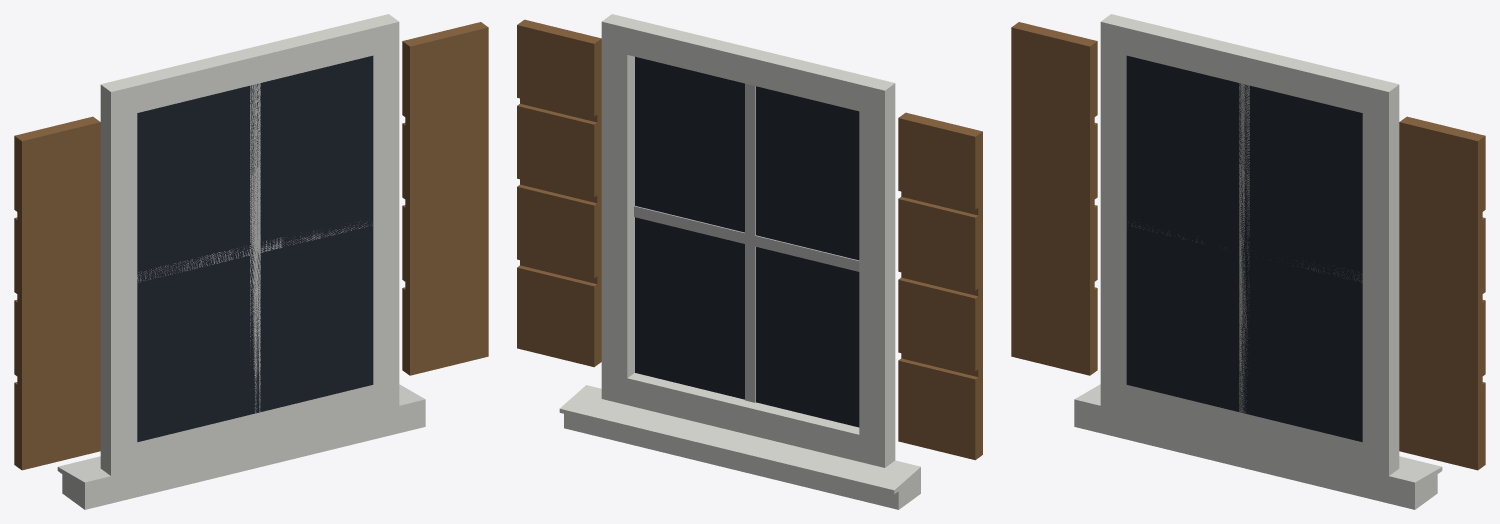
The model's file is window_small.obj.
3 views of the same model, side by side, from view 1: azimuth 30°, elevation 25°; view 2: azimuth 150°, elevation 25°; view 3: azimuth 330°, elevation 25° (orthographic).
Parts seen in each view (by area): view 1: window_small; view 2: window_small; view 3: window_small.
Part boxes in pixels (x1,y1,x2,y2): window_small: [14, 14, 488, 509]; window_small: [517, 14, 982, 509]; window_small: [1011, 14, 1485, 509].
Size of the model in its own units: 1.78 by 1.5 by 0.18.
